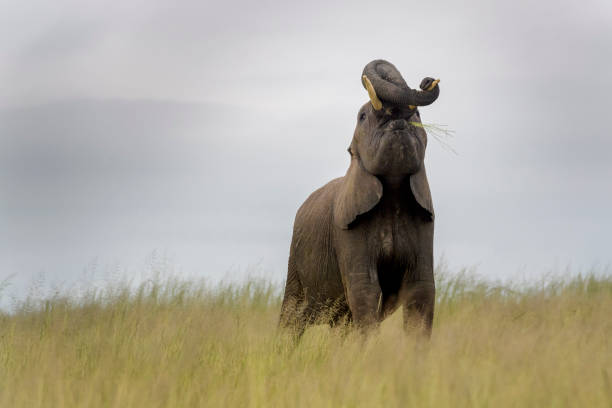africanelephant: (350, 66, 444, 183)
